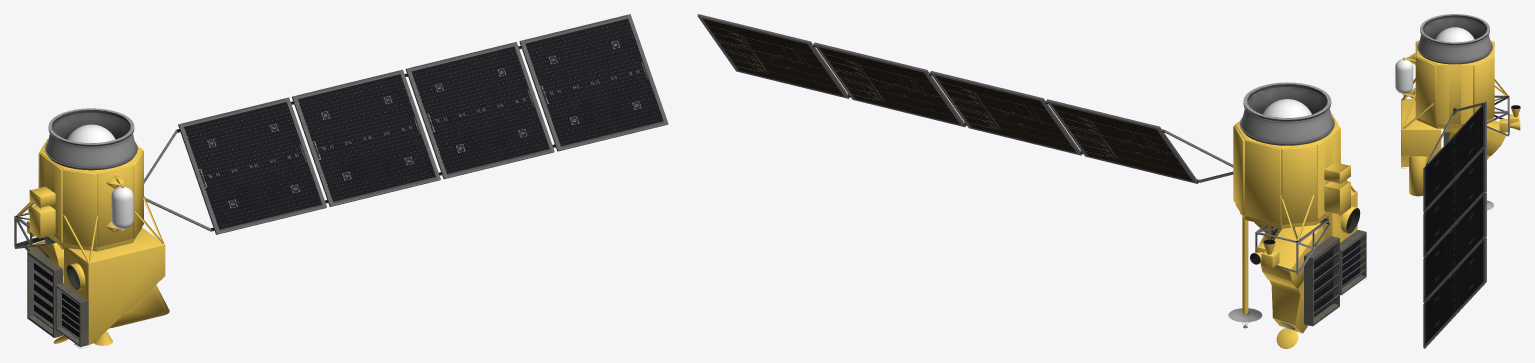
File: HyspIRI.gltf
3 renders of one model, left to right at view 1: azimuth 30°, elevation 25°; view 2: azimuth 150°, elevation 25°; view 3: azimuth 270°, elevation 25°, orthographic. The views are drawn at different scales.
Visible parts, largest first — view 1: shiny_panel, BUS, tex_01, AO_base, foil_silver, tex_03, AO_truss; view 2: tex_01, BUS, AO_base, tex_03, AO_truss, foil_silver; view 3: shiny_panel, BUS, AO_base, tex_01, foil_silver, AO_truss, tex_03.
Part boxes in pixels (x1,y1,x2,y2): shiny_panel: (184,18,663,229); BUS: (16,139,169,345); tex_01: (27,14,668,347); AO_base: (45,108,137,170); foil_silver: (67,124,133,348); tex_03: (28,45,556,338); AO_truss: (14,212,55,257); tex_01: (697,14,1366,326); BUS: (1233,113,1360,348); AO_base: (1240,82,1334,145); tex_03: (812,44,1365,329); AO_truss: (1255,218,1330,275); foil_silver: (1263,99,1366,283); shiny_panel: (1425,105,1483,343); BUS: (1401,40,1520,196); AO_base: (1417,14,1492,64); tex_01: (1423,101,1486,348); foil_silver: (1395,27,1474,168); AO_truss: (1487,95,1509,136); tex_03: (1425,102,1520,300).
Bounding box in the file's own units: 13.15 × 4.62 × 2.86.
Materials: 9 (7 with a texture image).
